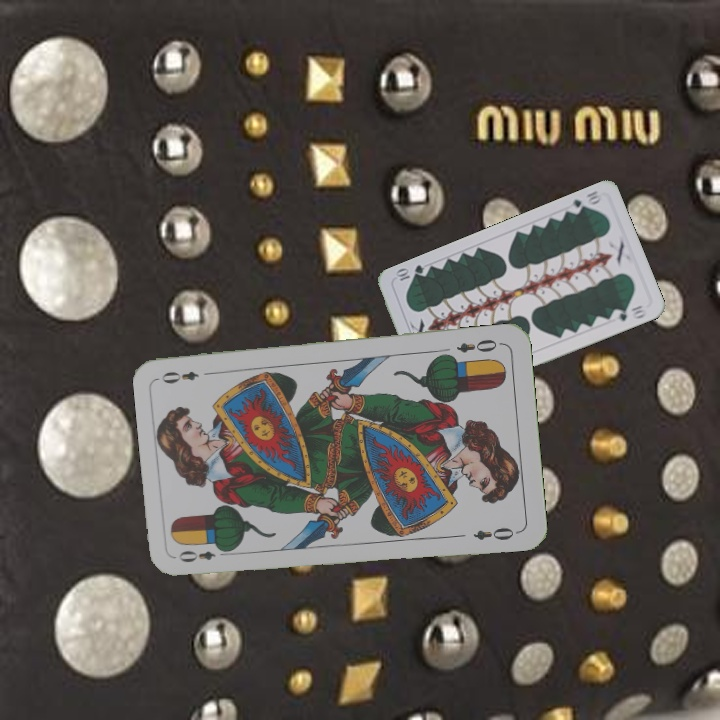EO: (174, 543, 232, 566), (452, 335, 505, 355)
G10: (564, 186, 605, 217)
